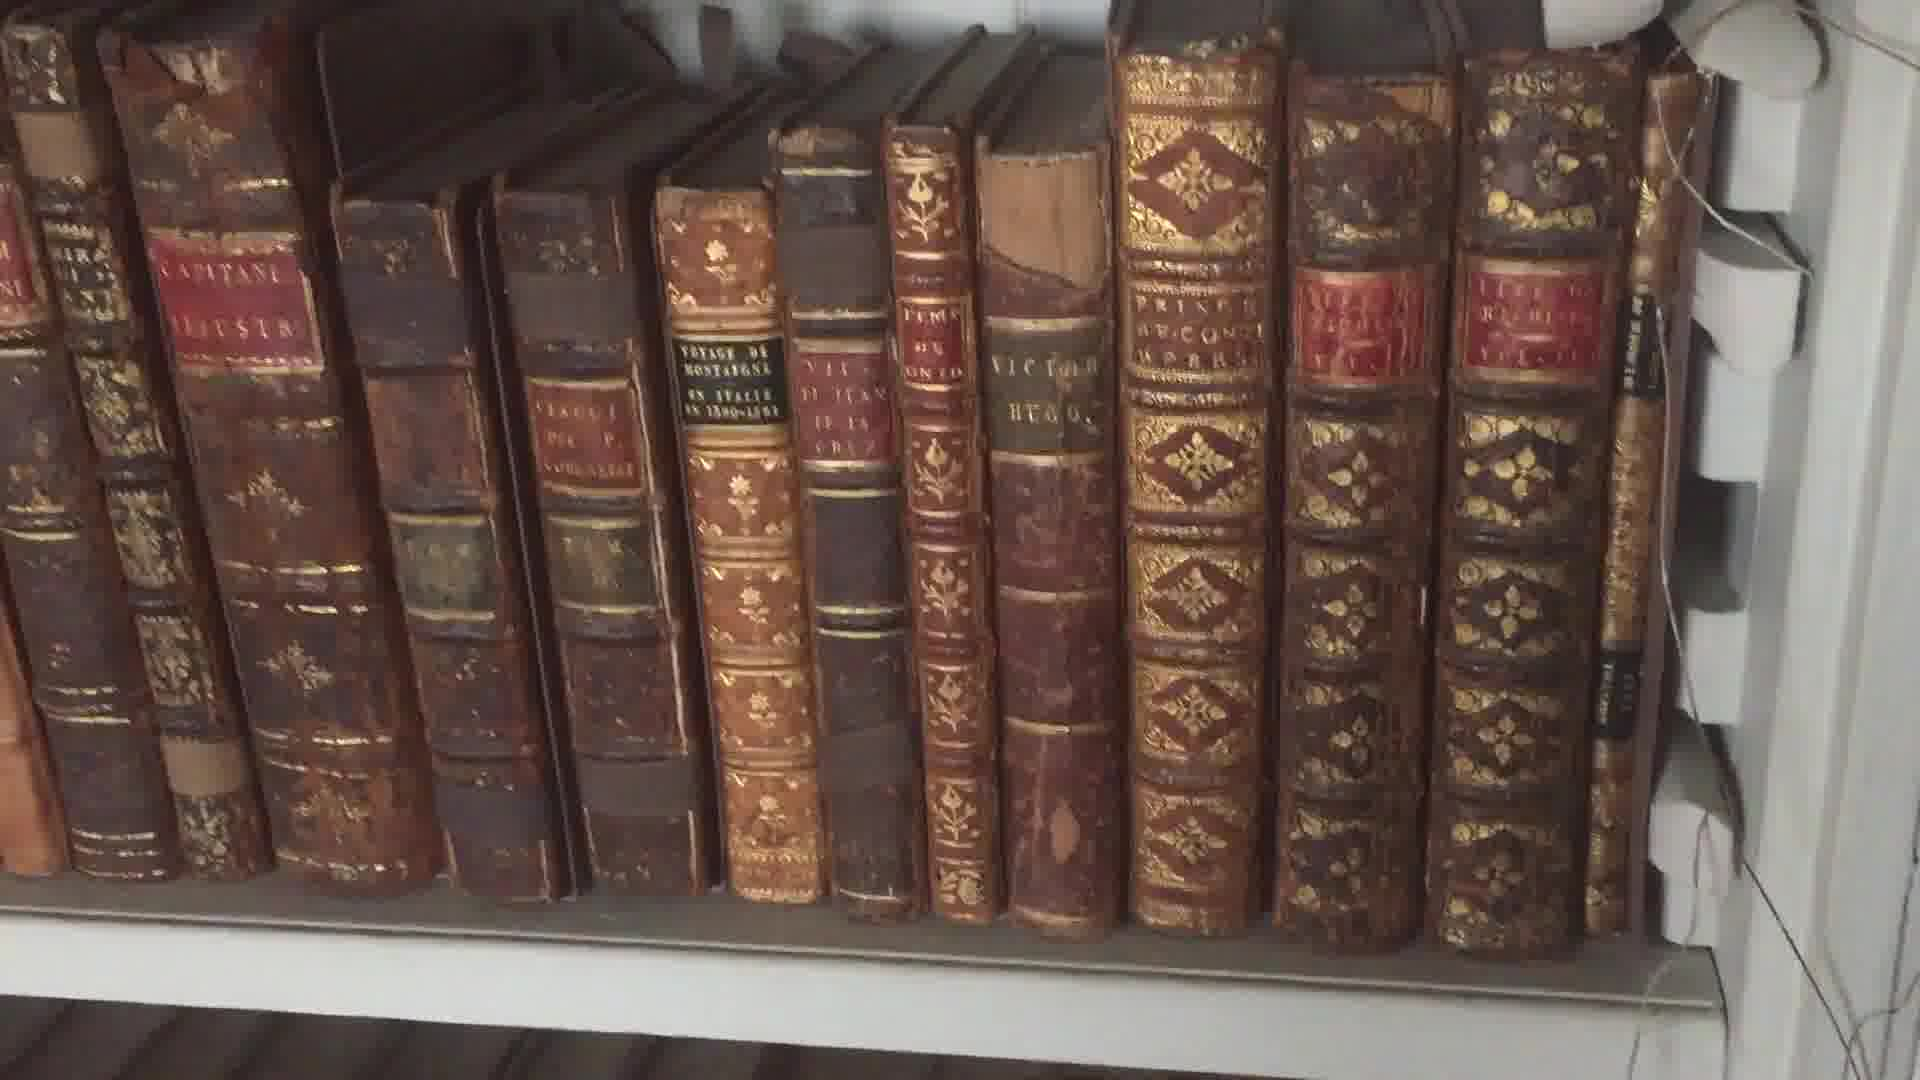Aa6-38: (94, 5, 415, 884)
Aa6-39_40: (319, 170, 713, 919)
Aa6-41: (604, 164, 837, 907)
Aa6-42: (764, 102, 934, 927)
Aa6-43: (880, 112, 1002, 927)
Aa6-44: (975, 136, 1151, 942)
Aa6-45: (1102, 18, 1294, 986)
Aa6-46-47: (1282, 34, 1597, 985)
Aa6-48: (1582, 46, 1697, 957)
